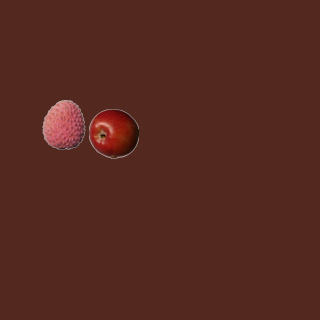Apple Braeburn: (88, 108, 138, 158)
Lychee: (38, 99, 88, 149)
